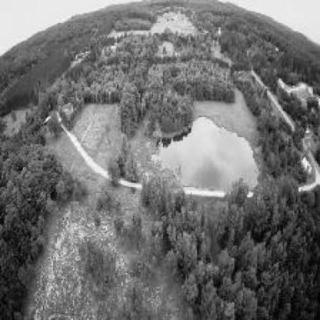other: (143, 121, 271, 185)
